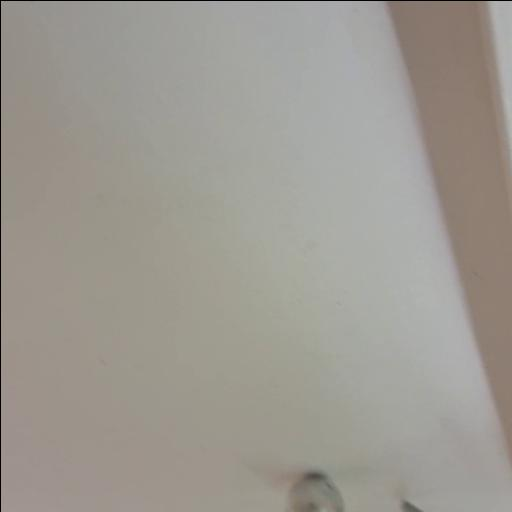alive: (283, 472, 344, 512)
